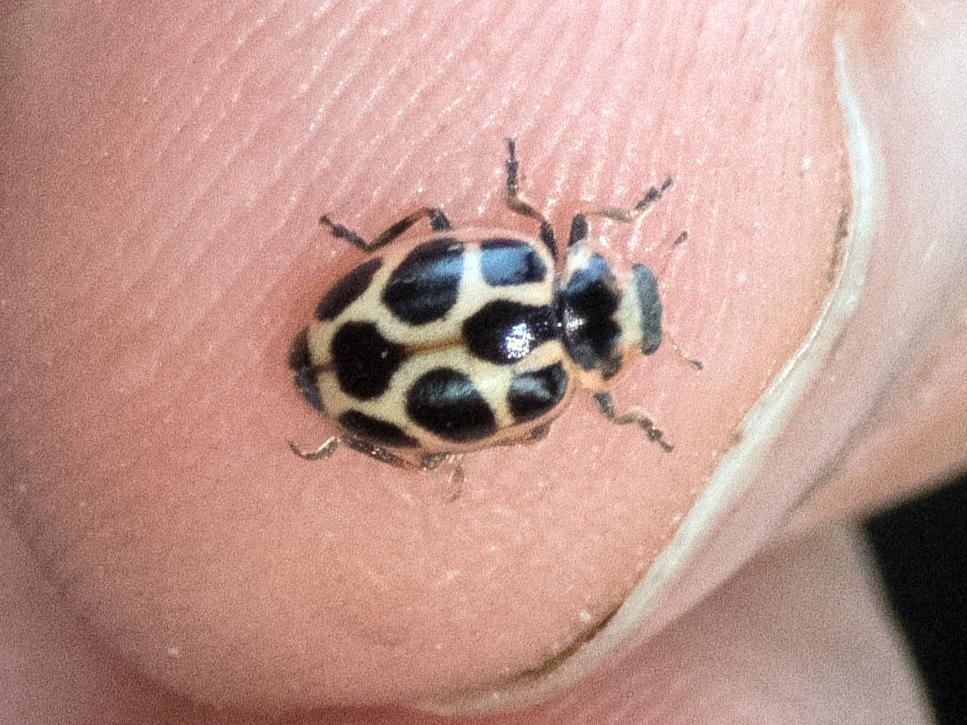ladybug: (273, 129, 709, 509)
